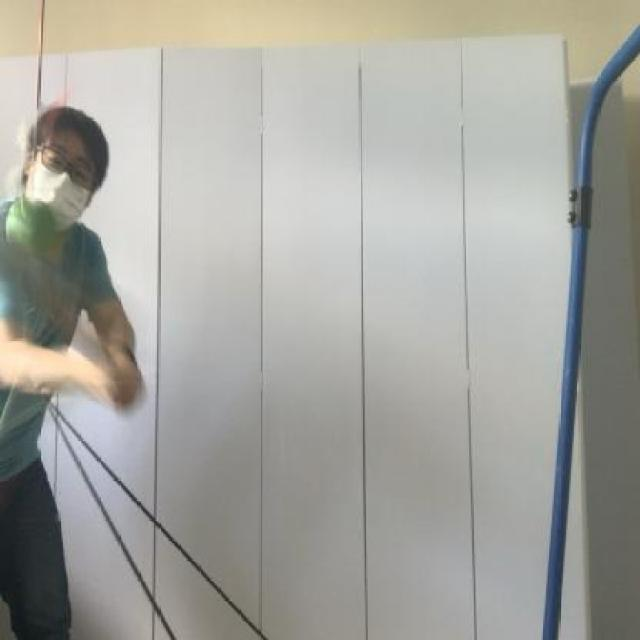baseball: (1, 182, 70, 290)
